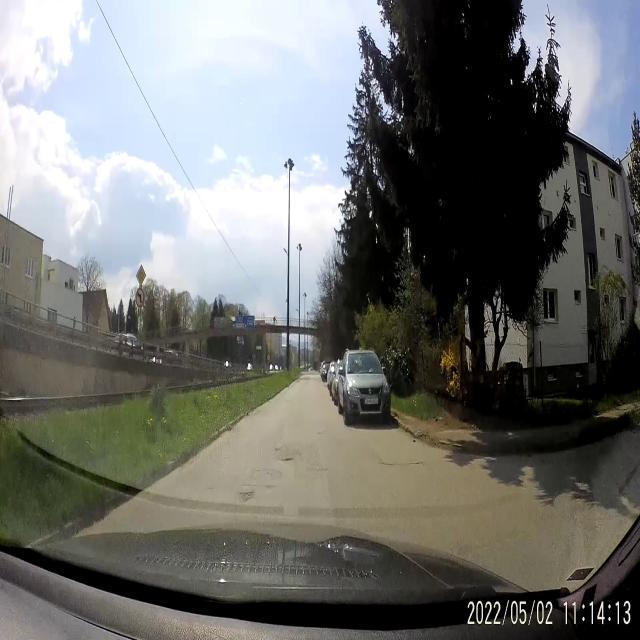Pothole: (378, 453, 422, 471), (278, 446, 300, 472), (238, 486, 258, 508)
